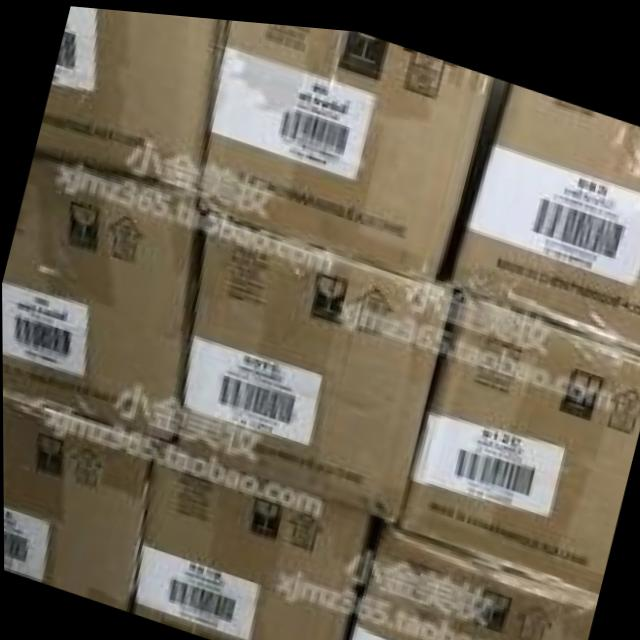box: (172, 210, 453, 516), (197, 16, 494, 276), (396, 282, 640, 586), (2, 154, 207, 438), (448, 73, 640, 342), (130, 441, 372, 640), (2, 392, 172, 611), (33, 5, 228, 192), (348, 515, 597, 640)
